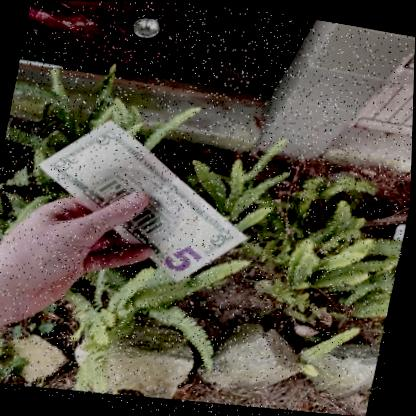dollar_back: (40, 121, 250, 284)
